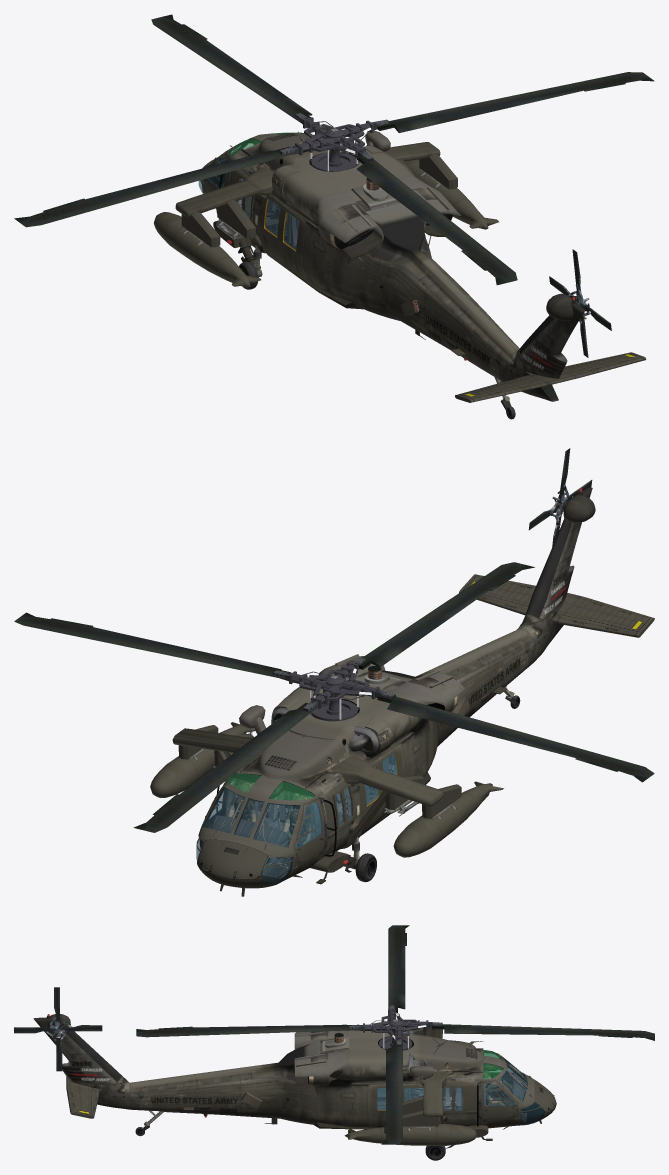
3 renders of one model, top to bottom at view 1: azimuth 30°, elevation 25°; view 2: azimuth 150°, elevation 25°; view 3: azimuth 270°, elevation 25°, orthographic. The views are drawn at different scales.
Parts seen in each view (by area): view 1: fuselage, main_rotor, Door_L, elevator, rear_rotor; view 2: fuselage, main_rotor, elevator, cabinDoor_L, Door_L, pilot, rear_rotor; view 3: fuselage, main_rotor, cabinDoor_R, rear_rotor, elevator, Door_R, pilot.
Part boxes in pixels (x1,y1,x2,y2): fuselage: (154,130,584,414); main_rotor: (14,14,654,285); Door_L: (260,196,308,280); elevator: (455,352,646,402); rear_rotor: (549,249,611,357); fuselage: (150,487,595,896); main_rotor: (14,562,654,832); elevator: (459,574,654,637); cabinDoor_L: (290,797,325,875); Door_L: (360,746,404,833); pilot: (227,784,310,866); rear_rotor: (528,448,592,546); fuselage: (33,1014,556,1148); main_rotor: (136,925,654,1144); cabinDoor_R: (480,1080,519,1125); rear_rotor: (14,987,102,1071); elevator: (66,1061,99,1118); Door_R: (369,1086,423,1127); pilot: (483,1071,513,1106).
Size of the model in its own units: 15.93 by 5.23 by 19.69.
